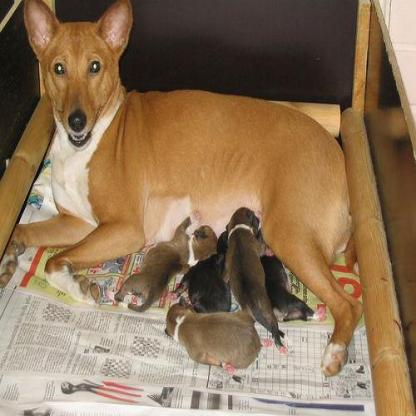basenji: (1, 0, 366, 375)
